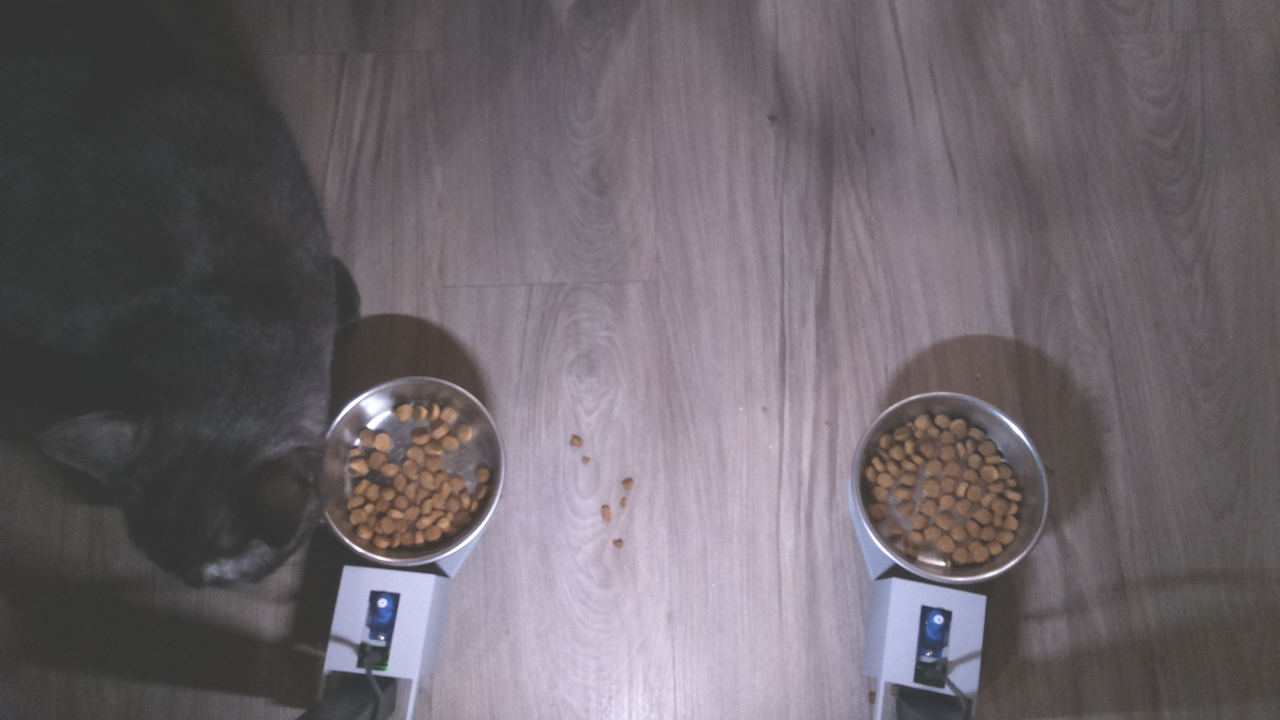open_bowl: (850, 389, 1052, 589), (321, 371, 512, 571)
saki: (34, 337, 341, 600)
